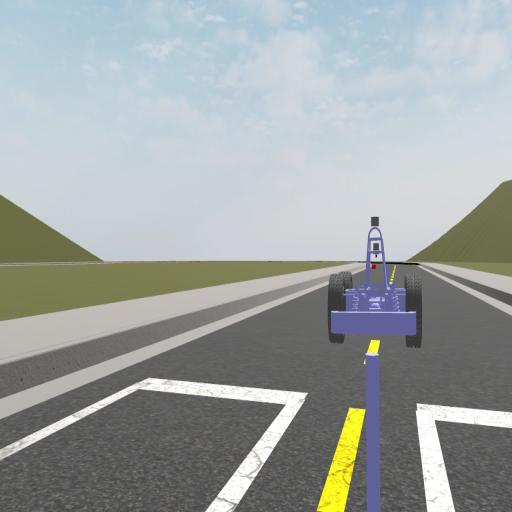ERP-42: (328, 216, 423, 348)
